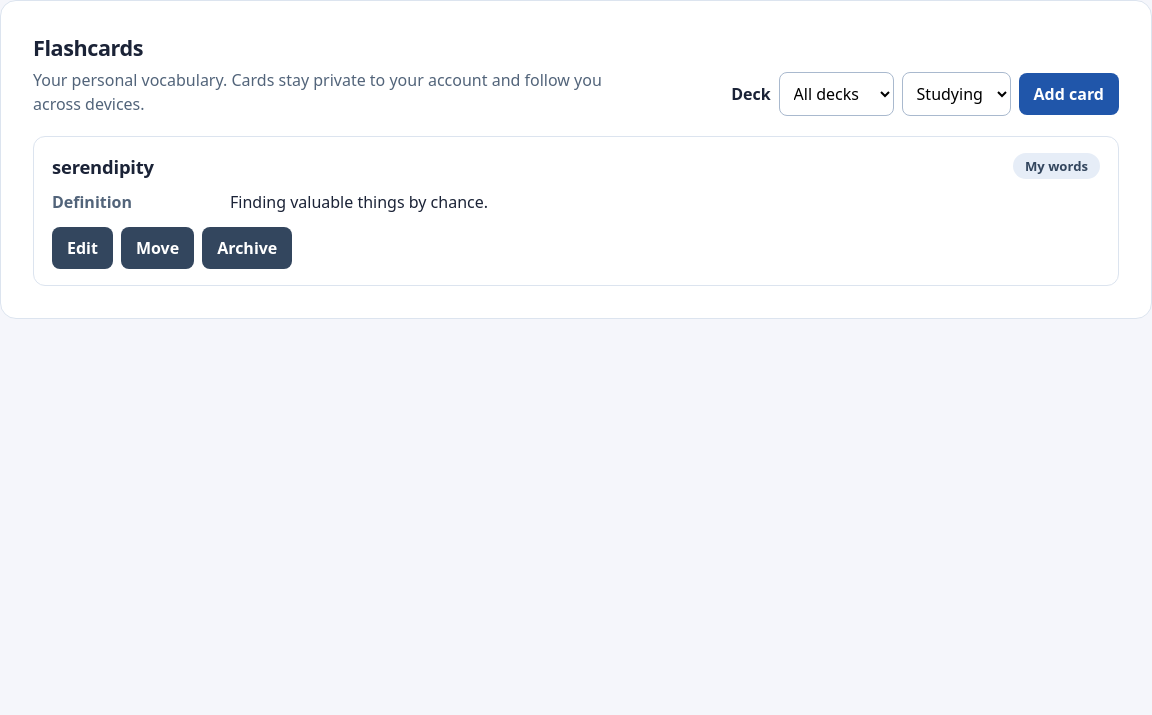
Test case: edits a card in place, keeping the same identity without recreating it
This screenshot has width=1152, height=715.
Click the button "Edit" at (82, 248), box [52,227,113,269]
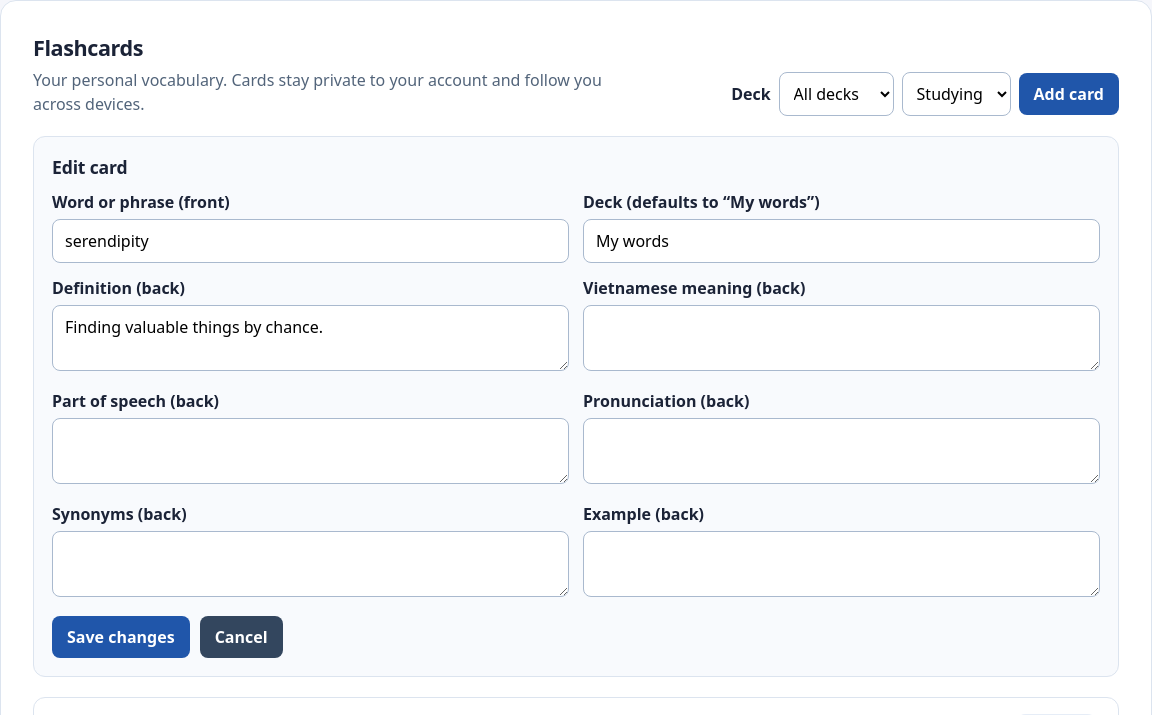
Replace the text in the text box labelled "Definition (back)" with "Updated sense." at (310, 338), box [52,305,569,371]
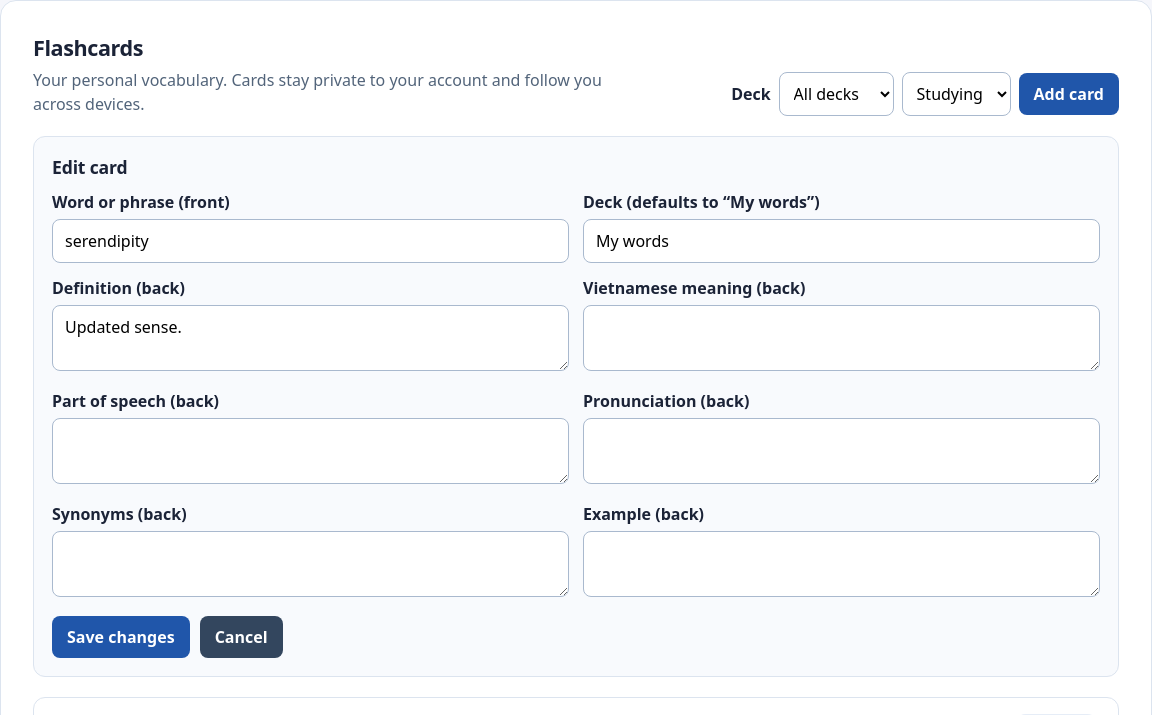
Click the button "Save changes" at (121, 637), box [52,616,190,658]
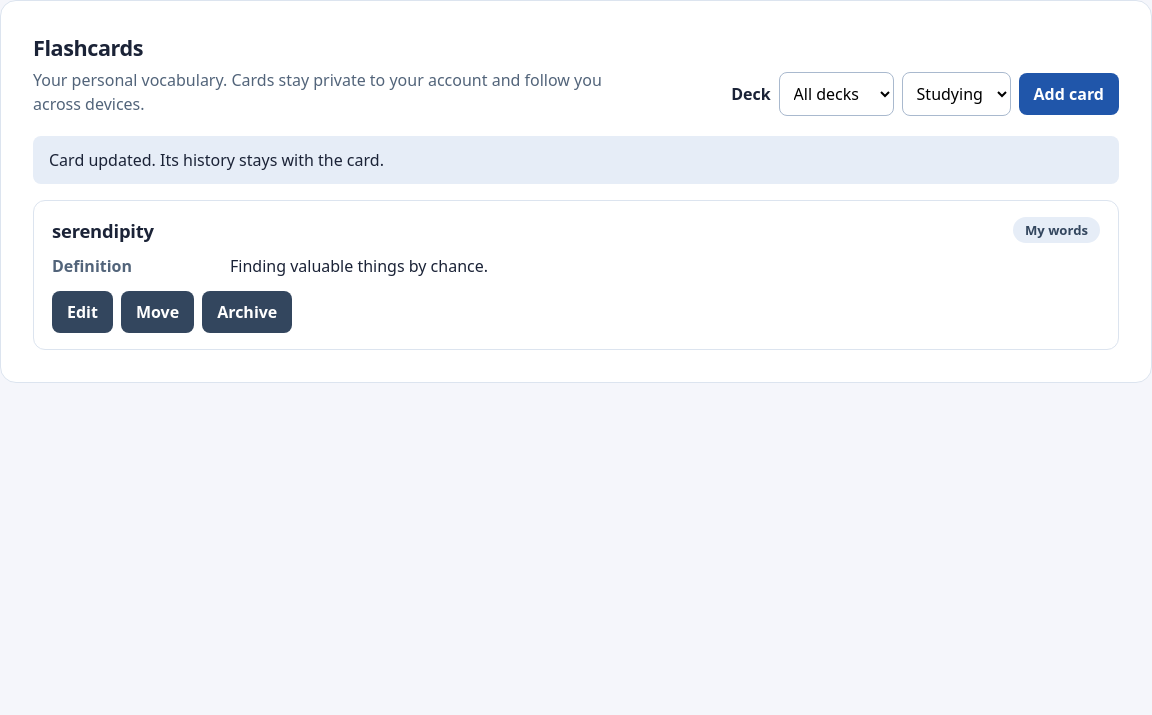
Check: the text "Card updated. Its history stays with the card." is shown, box [33,136,1119,184]
